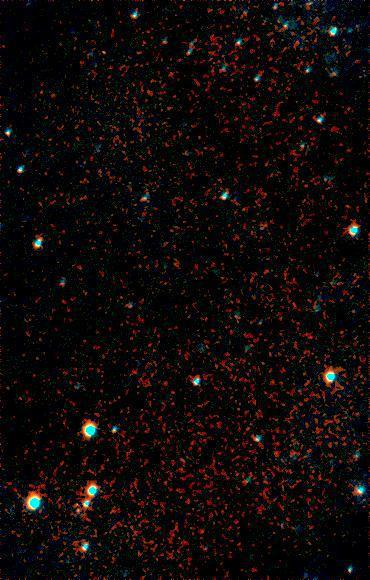star: (63, 497, 93, 527)
